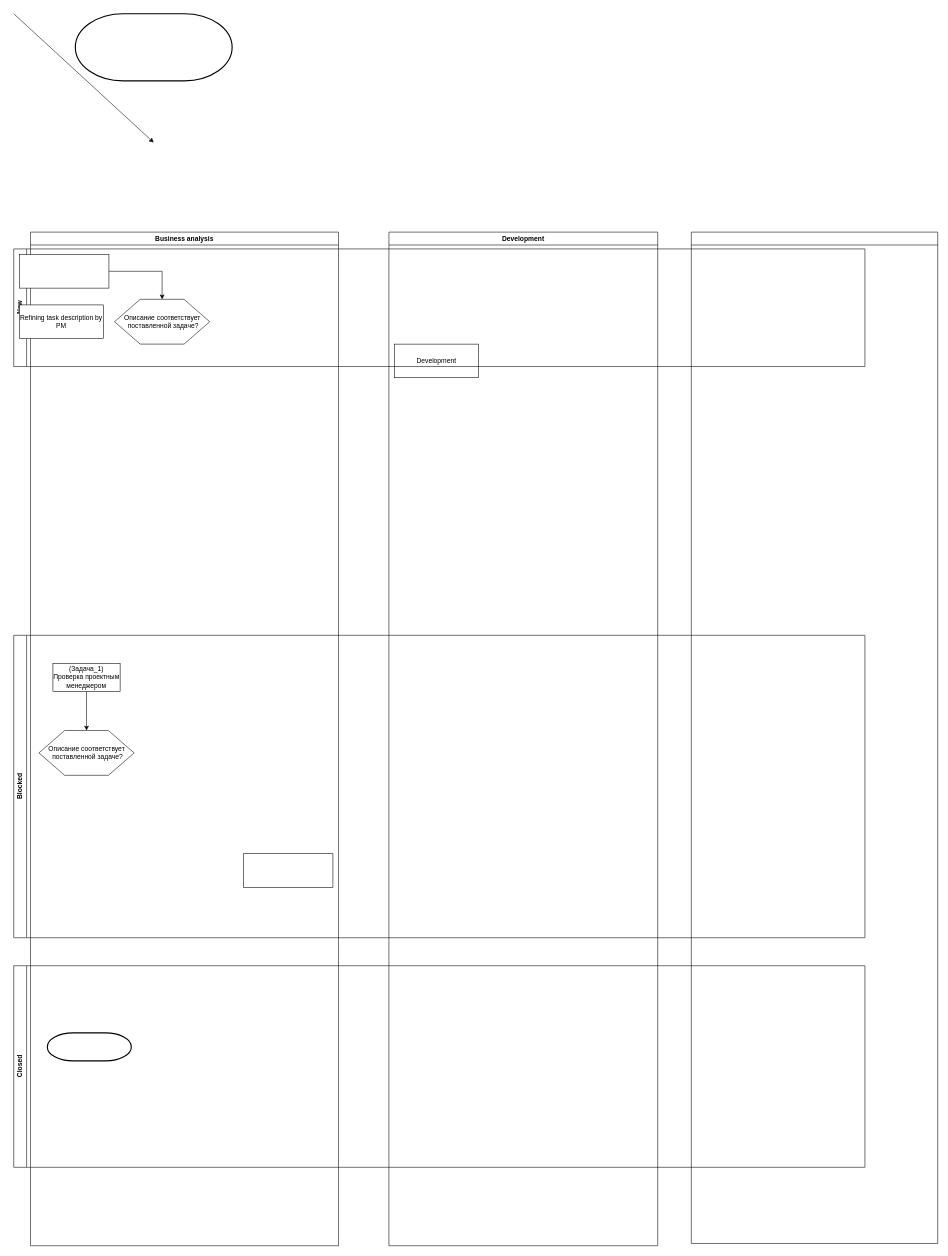
This 948x1256 diagram has some shape labels left out. Here are the shapes that lost their labels. From the top down, the centre of each, then its label:
At [153,47]: "Создание User Story".
At [64,271]: "(Задача_1) Описание задачи со стороны аналитика".
At [814,737]: "Quality assurance".
At [288,870]: "Доработка постановки задачи со стороны проектного менеджера".
At [89,1046]: "(Задача_1) Конец".
